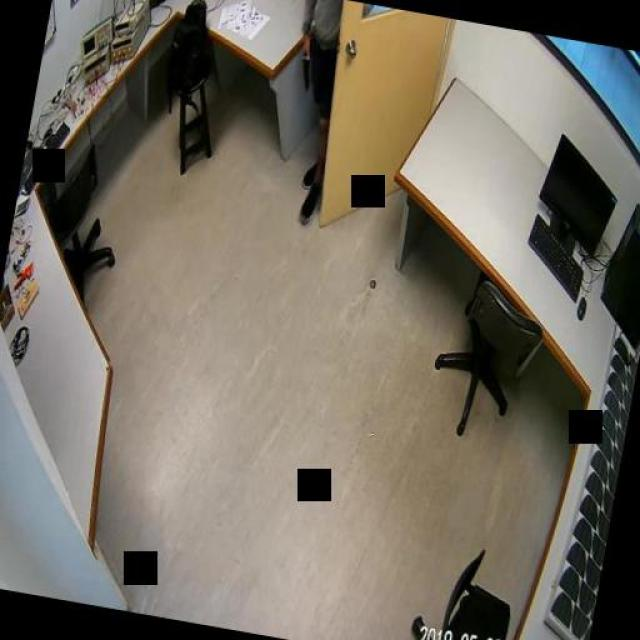gun: (294, 45, 314, 87)
